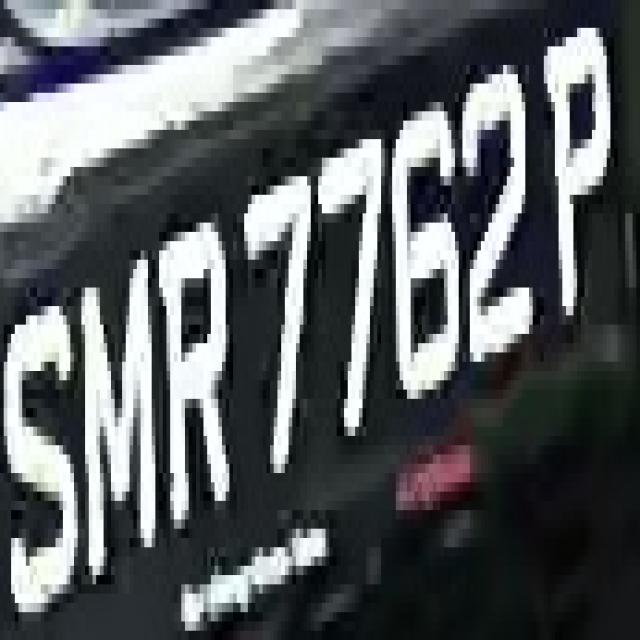2: (448, 37, 544, 399)
6: (388, 65, 462, 445)
7: (230, 158, 318, 501), (303, 111, 385, 473)
M: (78, 232, 159, 584)
P: (536, 9, 626, 334)
R: (156, 195, 240, 556)
S: (7, 287, 81, 640)
